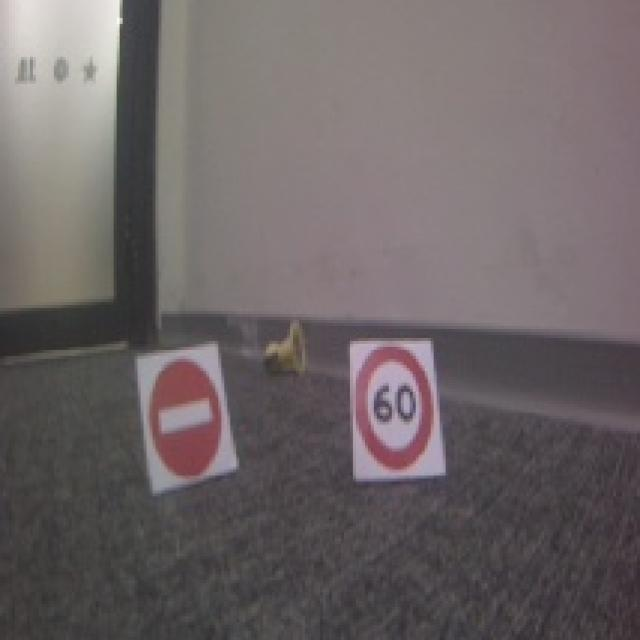DoNotEnterSign: (150, 353, 221, 479)
